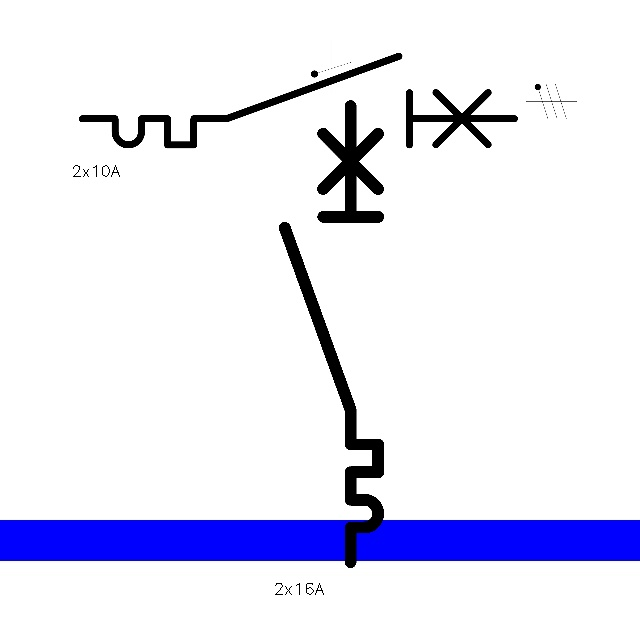interruptor_termomagnetico: (273, 94, 390, 574), (71, 45, 526, 156)
